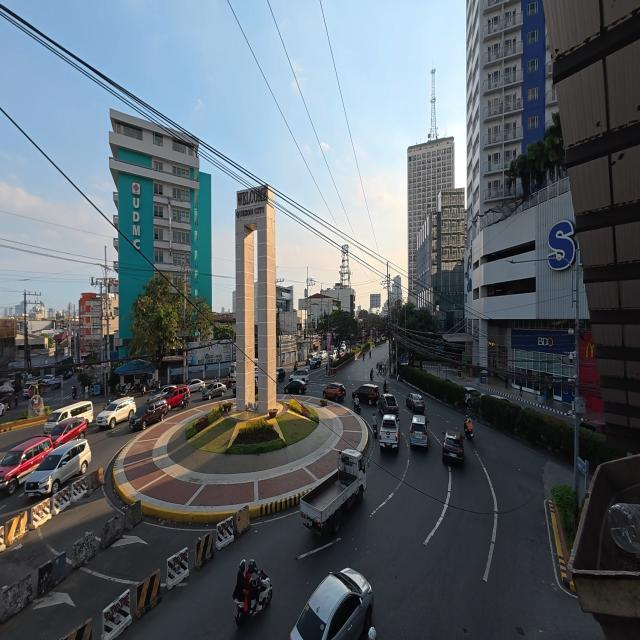car: (289, 569, 373, 639), (25, 440, 91, 496), (0, 436, 52, 494), (96, 397, 136, 429), (130, 399, 168, 430), (49, 418, 88, 448), (443, 430, 463, 463), (410, 415, 429, 448), (164, 385, 189, 409), (352, 384, 379, 405), (147, 384, 177, 402), (379, 394, 399, 416), (323, 383, 346, 401), (202, 382, 226, 399), (406, 393, 424, 413), (580, 420, 605, 434), (284, 380, 306, 394), (289, 369, 309, 383), (465, 387, 482, 403), (187, 379, 206, 393), (490, 394, 512, 403), (310, 358, 322, 370), (276, 367, 285, 381), (42, 375, 54, 384), (63, 370, 73, 379), (0, 402, 6, 416), (305, 356, 314, 365), (319, 351, 327, 360), (340, 343, 346, 350), (339, 349, 344, 357), (233, 385, 236, 397)
motorcycle: (235, 570, 272, 627), (464, 417, 473, 440), (179, 394, 189, 410), (354, 403, 361, 414), (372, 422, 377, 437), (72, 387, 77, 399), (384, 381, 388, 393), (370, 369, 373, 380), (369, 351, 371, 358), (363, 353, 365, 360)
trucks: (300, 449, 366, 533), (379, 414, 399, 452)
vans: (44, 401, 93, 434), (23, 382, 37, 398)
